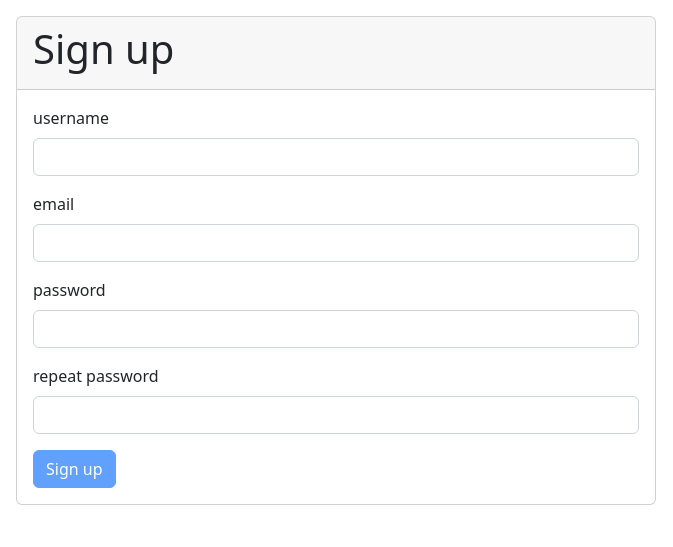
Test: Sign up page › Interactions › displays Incorrect email for email
The width and height of the screenshot is (673, 547).
Type "user1" into the field labelled "username" at (336, 157), box [33,138,639,176]
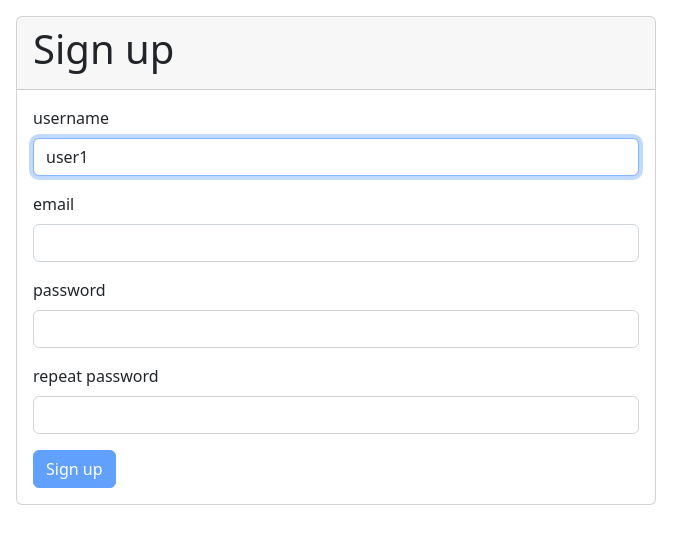
Type "user1@gmail.com" into the field labelled "email" at (336, 243), box [33,224,639,262]
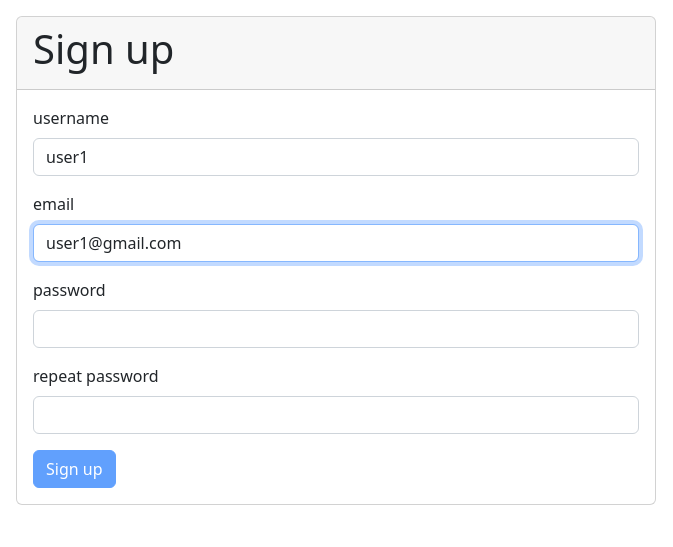
Type "P4ssword" into the password field labelled "password" at (336, 329), box [33,310,639,348]
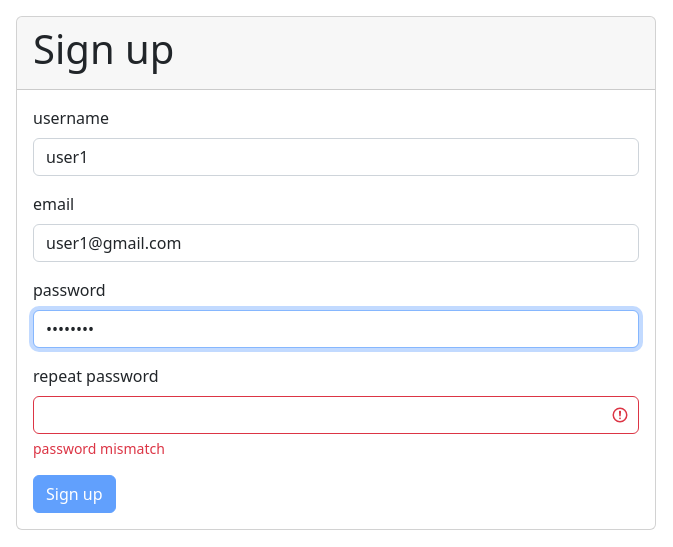
Type "P4ssword" into the password field labelled "repeat password" at (336, 415), box [33,396,639,434]
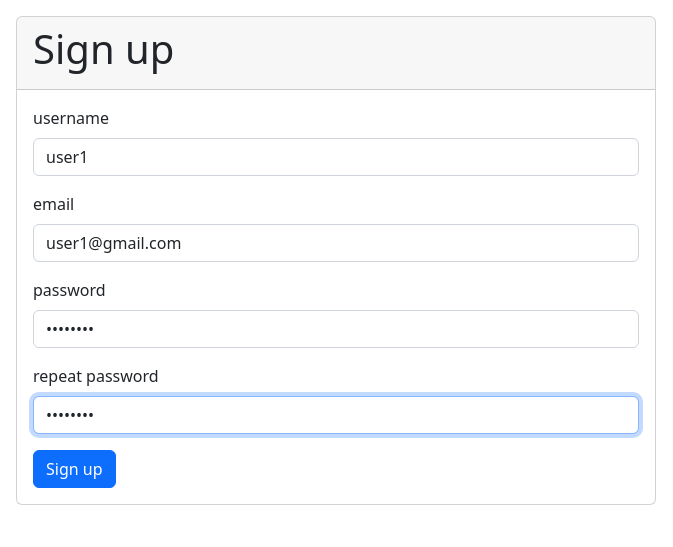
Click the button "Sign up" at (74, 469), box [33,450,116,488]
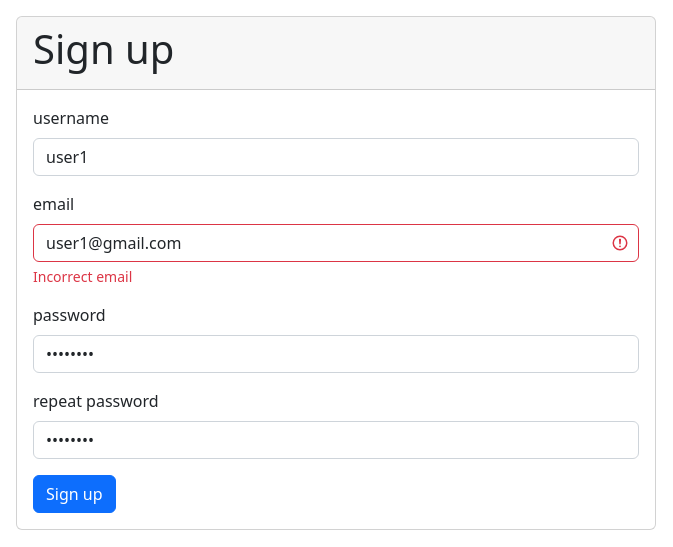
Expected: the text "Incorrect email" is shown, [33,267,132,286]
